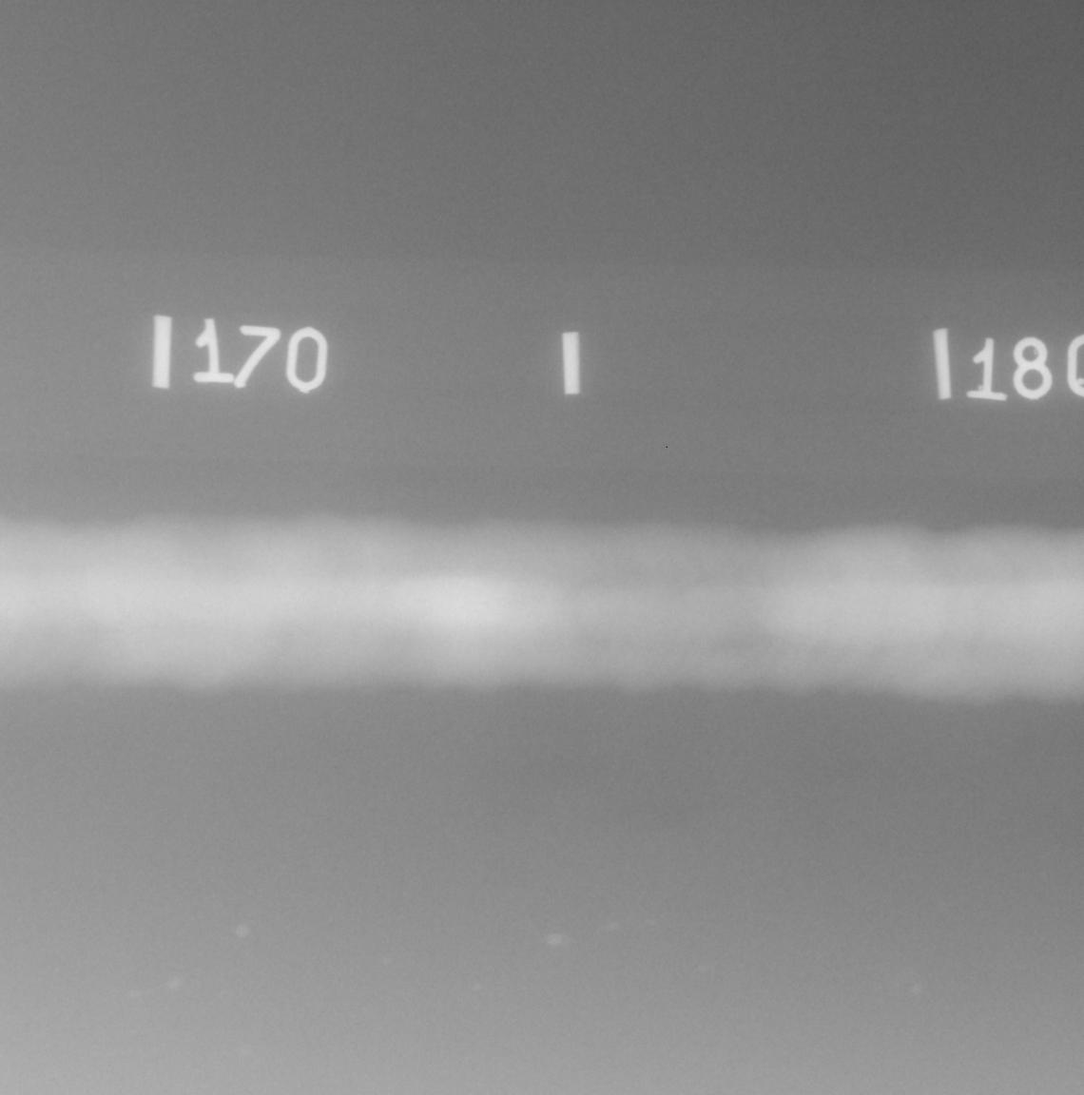Inclusion: (479, 601, 489, 606)
Lack of Fusion: (412, 600, 421, 601)
